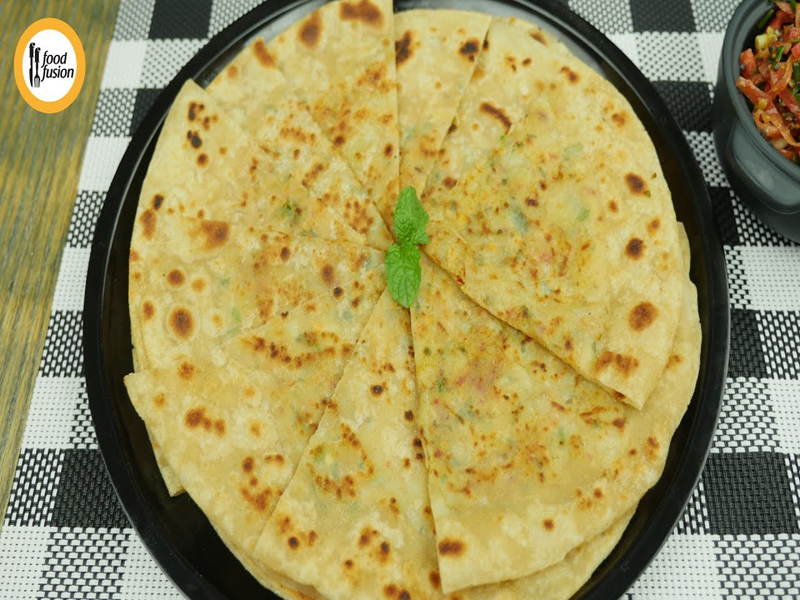aloo_paratha: (132, 5, 700, 589)
